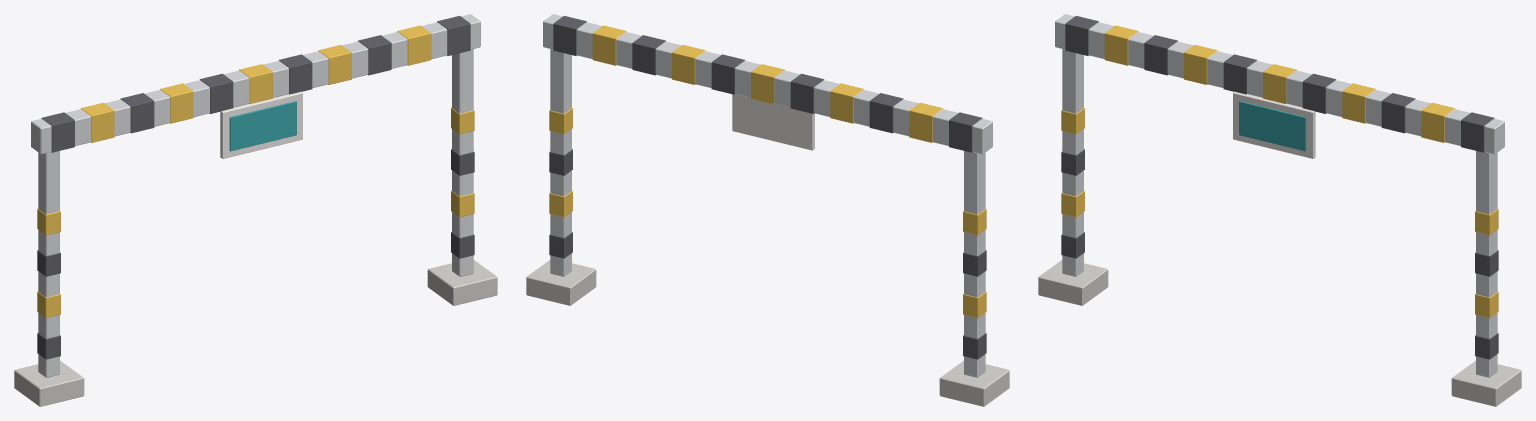
File: motorway-services-and-truck-park-height-restriction-ba-d57cb30b__35959.glb
The picture shows the model from 3 angles, left to right: view 1: azimuth 30°, elevation 25°; view 2: azimuth 150°, elevation 25°; view 3: azimuth 330°, elevation 25°; orthographic projection.
Visible parts, largest first — view 1: height-restriction-barrier; view 2: height-restriction-barrier; view 3: height-restriction-barrier.
Part boxes in pixels (x1,y1,x2,y2): height-restriction-barrier: (14, 14, 497, 406); height-restriction-barrier: (526, 14, 1009, 406); height-restriction-barrier: (1038, 14, 1521, 406).
Bounding box in the file's own units: 5.1 × 2.89 × 0.4999.
